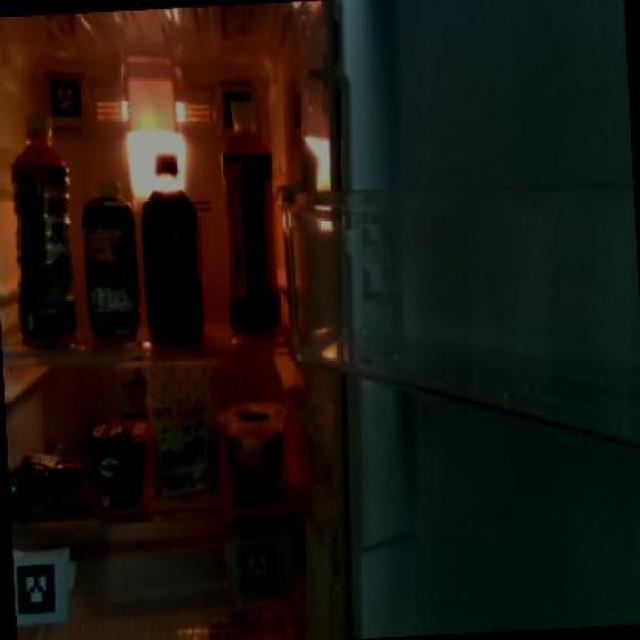bottle: (6, 112, 79, 342), (214, 127, 284, 340)
coffee: (134, 150, 206, 336)
pudding: (217, 394, 290, 496)
rice_ball: (10, 437, 78, 508)
sandwich: (146, 360, 220, 502)
smoothie: (77, 174, 143, 340)
yogurt: (76, 410, 150, 512)
